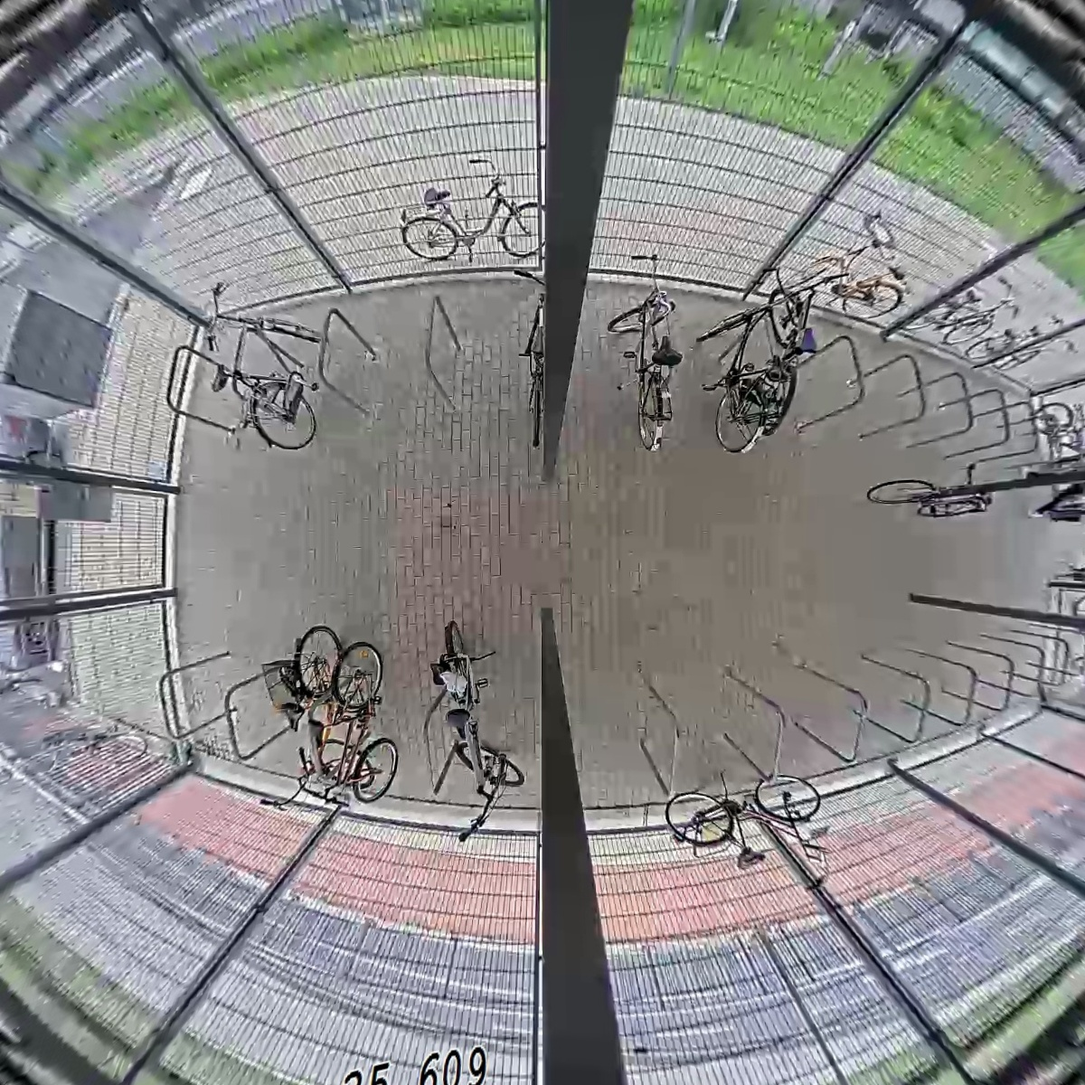bicylce: (190, 274, 334, 459), (420, 613, 530, 845), (258, 616, 374, 825), (694, 260, 800, 468), (661, 768, 835, 892), (603, 248, 692, 458), (300, 635, 402, 818), (751, 259, 853, 437), (507, 260, 579, 459), (860, 460, 998, 527)
saddle: (645, 327, 687, 371), (729, 838, 767, 879), (757, 350, 791, 388), (275, 699, 309, 733), (441, 706, 476, 738), (793, 323, 824, 359), (303, 712, 329, 751), (204, 360, 232, 394), (530, 323, 547, 359), (975, 489, 996, 508)
